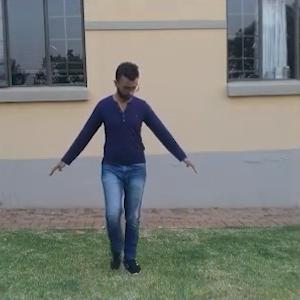land: (37, 59, 203, 272)
